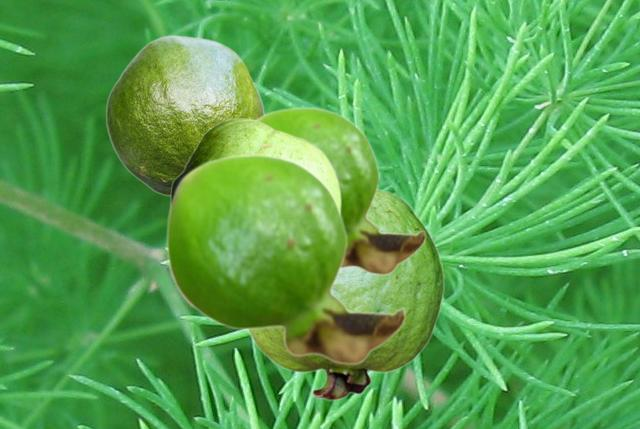guava: (165, 153, 406, 365), (247, 188, 444, 400), (254, 106, 426, 275), (105, 35, 264, 196), (170, 118, 340, 207)
